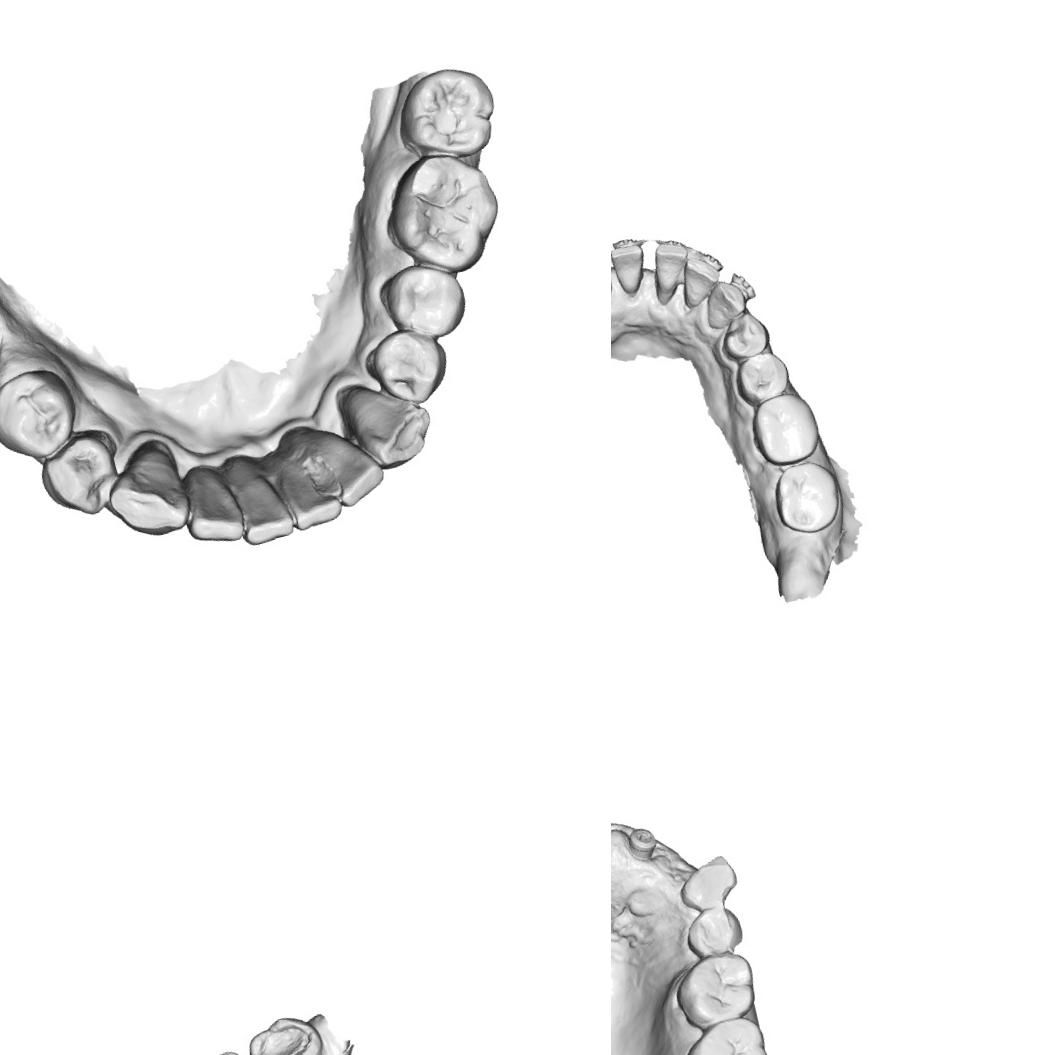canine: (342, 367, 442, 477), (97, 438, 196, 546), (671, 849, 744, 916), (696, 275, 752, 333)
implant: (622, 822, 662, 866)
incisor: (314, 416, 389, 514), (177, 463, 249, 552), (227, 468, 299, 550), (276, 454, 346, 534), (674, 250, 727, 312), (647, 235, 697, 295), (611, 239, 653, 298)
molar: (370, 140, 514, 287), (385, 56, 506, 172), (666, 945, 764, 1036), (767, 455, 849, 541), (745, 386, 826, 472), (674, 1009, 777, 1055), (242, 1009, 332, 1055)
premolar: (32, 426, 129, 526), (375, 256, 474, 350), (0, 364, 81, 470), (361, 322, 456, 410), (729, 348, 796, 411), (682, 902, 750, 960), (714, 306, 774, 367)
